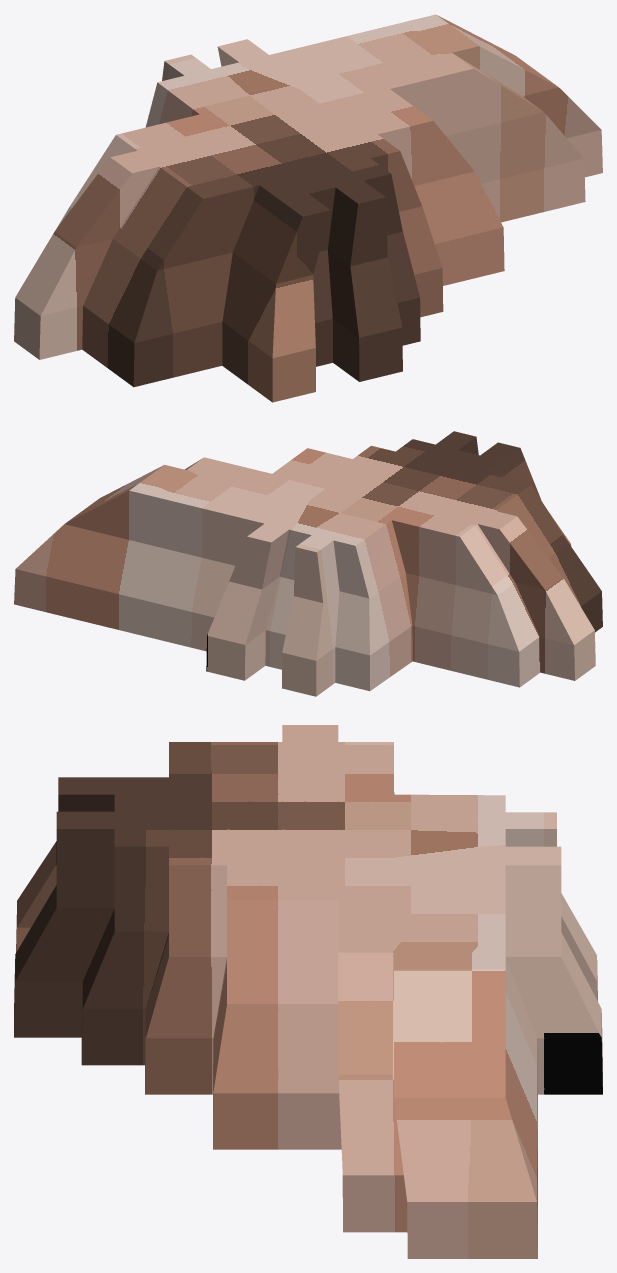
Rendered from debris_201x00.gltf.
3 views of the same model, one above another, from view 1: azimuth 30°, elevation 25°; view 2: azimuth 150°, elevation 25°; view 3: azimuth 270°, elevation 25° (orthographic). The views are drawn at different scales.
Visible parts, largest first — view 1: debris_201x00; view 2: debris_201x00; view 3: debris_201x00.
Boxes of the visible parts, x1,y1,x2,y2 form: debris_201x00: (14, 14, 602, 402); debris_201x00: (14, 431, 602, 696); debris_201x00: (14, 725, 602, 1258).
Size of the model in its own units: 1.56 by 0.394 by 1.01.
1 material, 1 textured.
